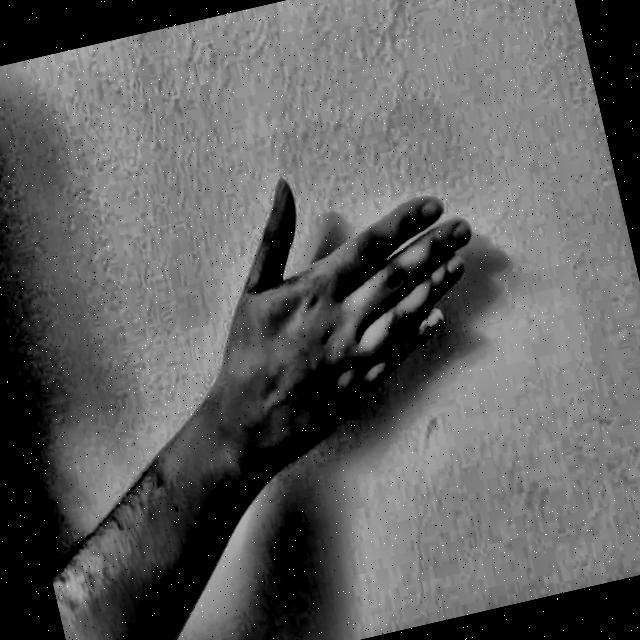Aa: (170, 132, 535, 509)
